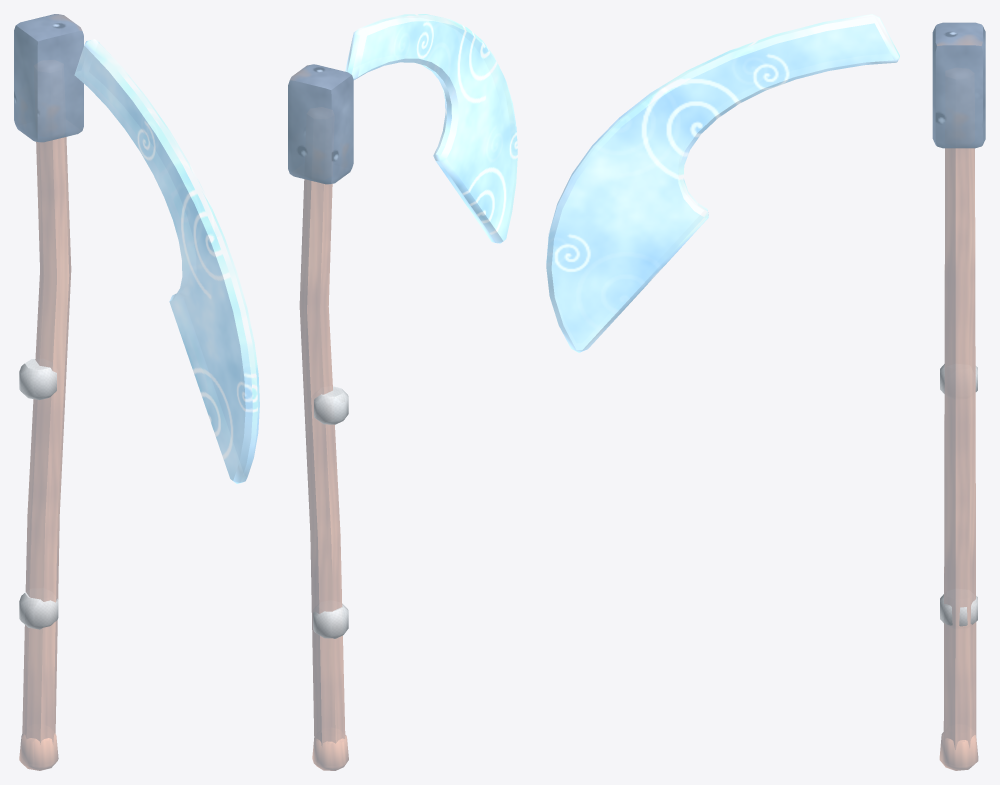
Rendered from scythe_t2.gltf.
3 views of the same model, side by side, from view 1: azimuth 30°, elevation 25°; view 2: azimuth 150°, elevation 25°; view 3: azimuth 270°, elevation 25° (orthographic). The views are drawn at different scales.
Parts seen in each view (by area): view 1: scythe_t2_mesh; view 2: scythe_t2_mesh; view 3: scythe_t2_mesh.
Part boxes in pixels (x1,y1,x2,y2): scythe_t2_mesh: (14, 14, 259, 770); scythe_t2_mesh: (288, 14, 517, 770); scythe_t2_mesh: (546, 14, 985, 770).
Size of the model in its own units: 0.0929 by 1.26 by 0.6636.
Materials: 4 (4 with a texture image).
